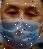with_mask: (1, 2, 43, 49)
